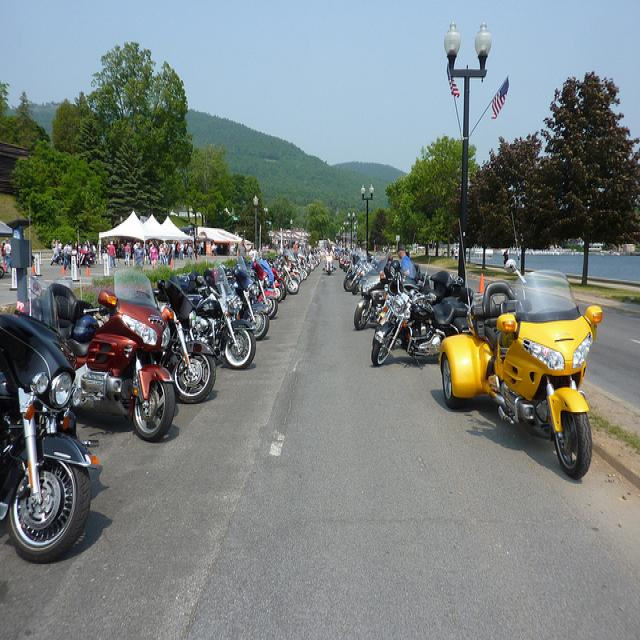motor: (434, 255, 607, 486), (2, 308, 104, 561), (40, 270, 176, 441), (49, 245, 359, 295), (368, 270, 461, 372), (154, 271, 217, 405), (186, 263, 256, 372), (353, 251, 433, 330), (228, 257, 269, 341), (249, 257, 279, 320), (344, 251, 386, 292), (258, 261, 289, 304), (272, 254, 300, 294), (284, 254, 301, 283)
